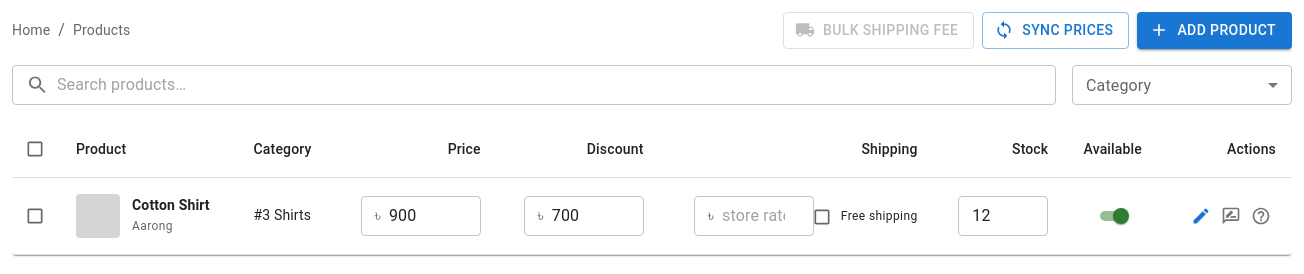
Test: nests child categories under their parent in the filter dropdown
Check: the text "Cotton Shirt" is shown, box [132,194,210,214]
Press the mouse on the dropdown named "Category": [1182, 84] box [1072,64,1292,104]
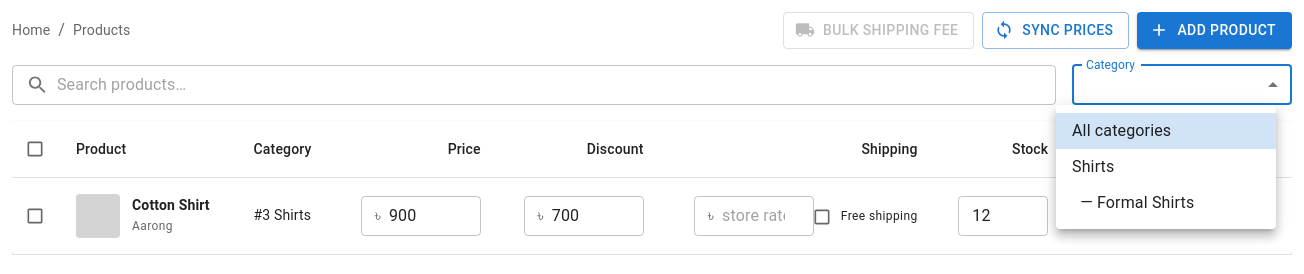
Check: the option "— Formal Shirts" is shown, box [1080,193,1194,212]
